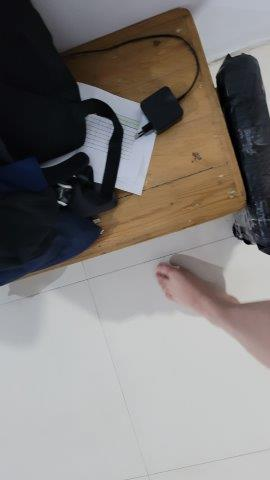kertas: (72, 80, 158, 195)
